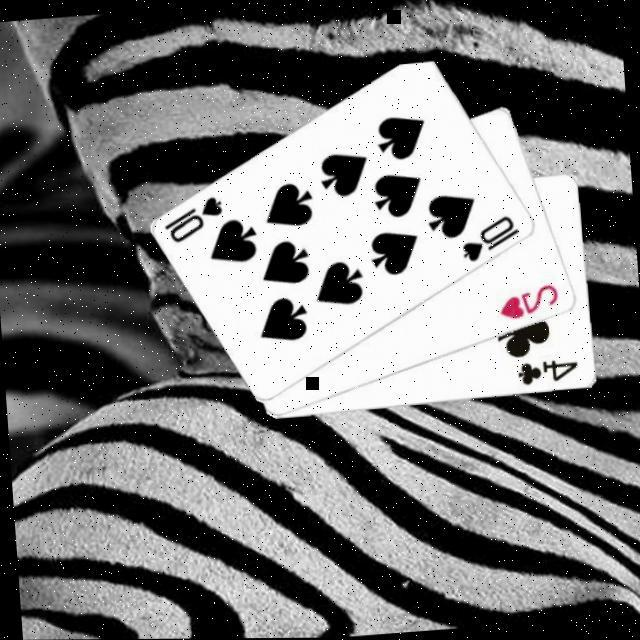10S: (161, 194, 230, 248), (458, 214, 525, 268)
2H: (496, 283, 564, 326)
4C: (515, 357, 583, 391)
